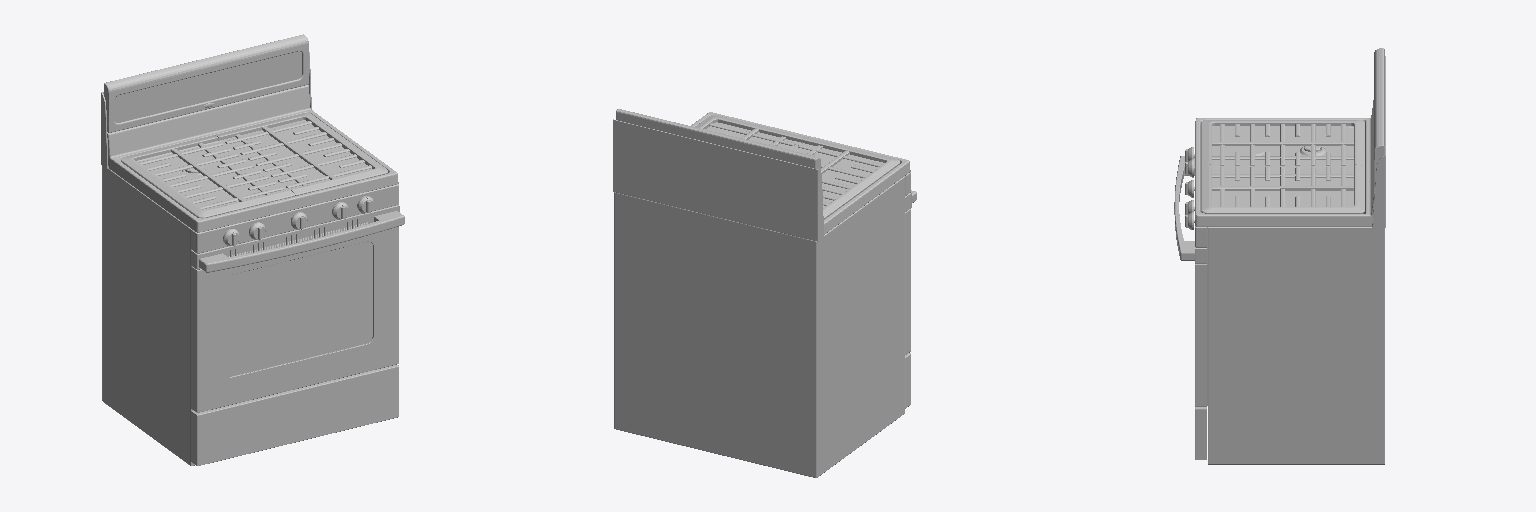
Rendered from oven try light.obj.
3 renders of one model, left to right at view 1: azimuth 30°, elevation 25°; view 2: azimuth 150°, elevation 25°; view 3: azimuth 270°, elevation 25°, orthographic.
Visible parts, largest first — view 1: DB_Apps_Tech_04_13; view 2: DB_Apps_Tech_04_13; view 3: DB_Apps_Tech_04_13.
Boxes of the visible parts, x1=… form: DB_Apps_Tech_04_13: x1=101, y1=34, x2=404, y2=465; DB_Apps_Tech_04_13: x1=613, y1=109, x2=916, y2=477; DB_Apps_Tech_04_13: x1=1174, y1=48, x2=1385, y2=464.
Bounding box in the file's own units: 0.4 × 0.5951 × 0.3567.